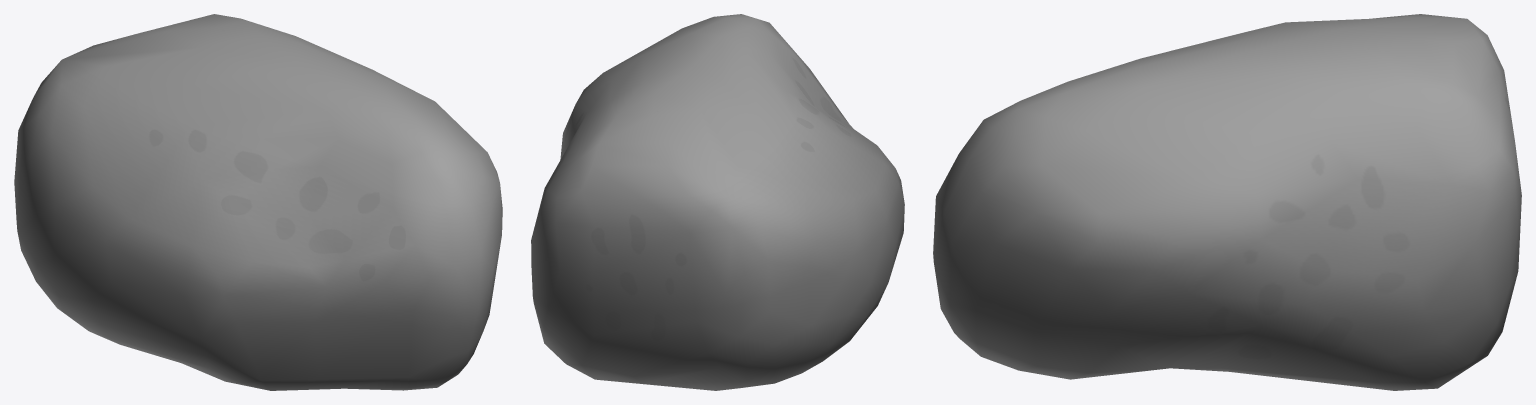
File: Peb03.fbx
The picture shows the model from 3 angles, left to right: view 1: azimuth 30°, elevation 25°; view 2: azimuth 150°, elevation 25°; view 3: azimuth 270°, elevation 25°; orthographic projection. The views are drawn at different scales.
Visible parts, largest first — view 1: Peb03; view 2: Peb03; view 3: Peb03.
Boxes of the visible parts, left/top/right/bottom form: Peb03: left=14, top=14, right=502, bottom=390; Peb03: left=531, top=14, right=904, bottom=390; Peb03: left=933, top=14, right=1521, bottom=390.
Size of the model in its own units: 5.53 by 4.01 by 6.75.
